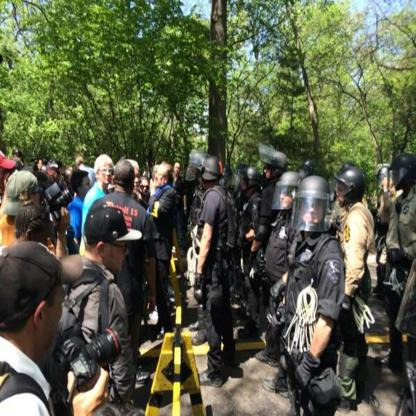face: (34, 281, 63, 348), (105, 234, 130, 273), (302, 196, 324, 224), (34, 228, 51, 253), (280, 184, 295, 209), (28, 186, 41, 211), (338, 182, 350, 206), (393, 168, 404, 189), (130, 171, 140, 194), (83, 178, 94, 198), (101, 165, 112, 184), (156, 168, 166, 187), (265, 160, 273, 180), (1, 165, 8, 185), (142, 182, 150, 198), (241, 175, 249, 190), (191, 164, 199, 179), (204, 171, 210, 189), (381, 178, 388, 193), (237, 175, 244, 187), (153, 169, 159, 181), (175, 165, 181, 174), (38, 161, 43, 170)
